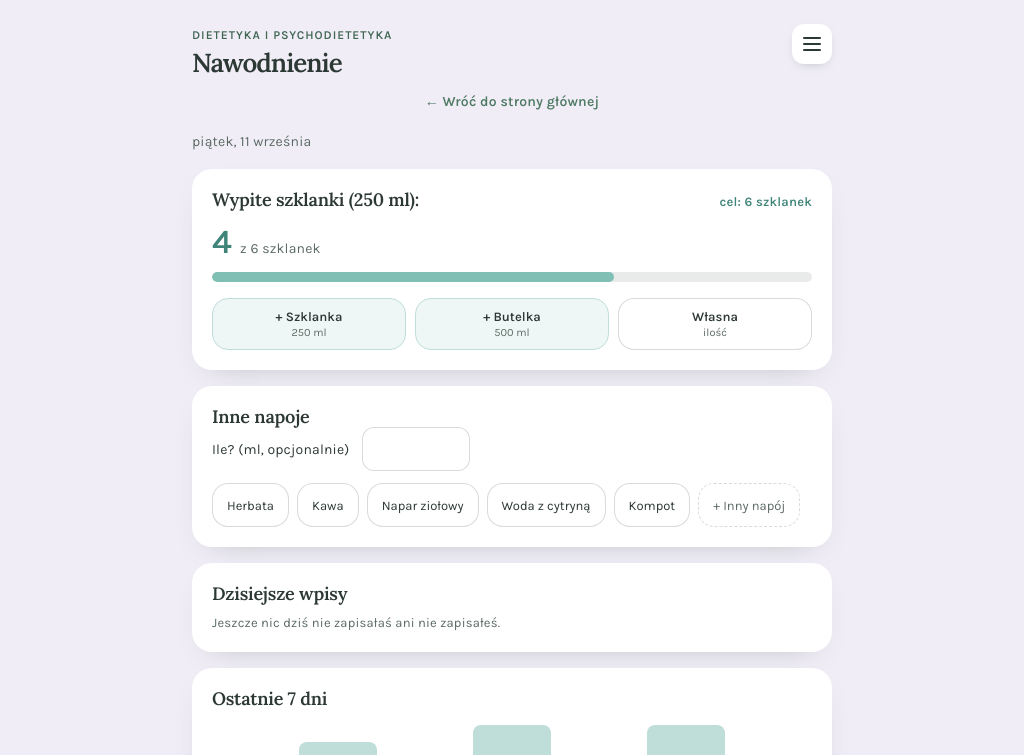
Test: recording a serving › a refusal is shown and the count does not move
Click the button "+ Szklanka 250 ml".
click(309, 324)  # box [212, 298, 406, 350]
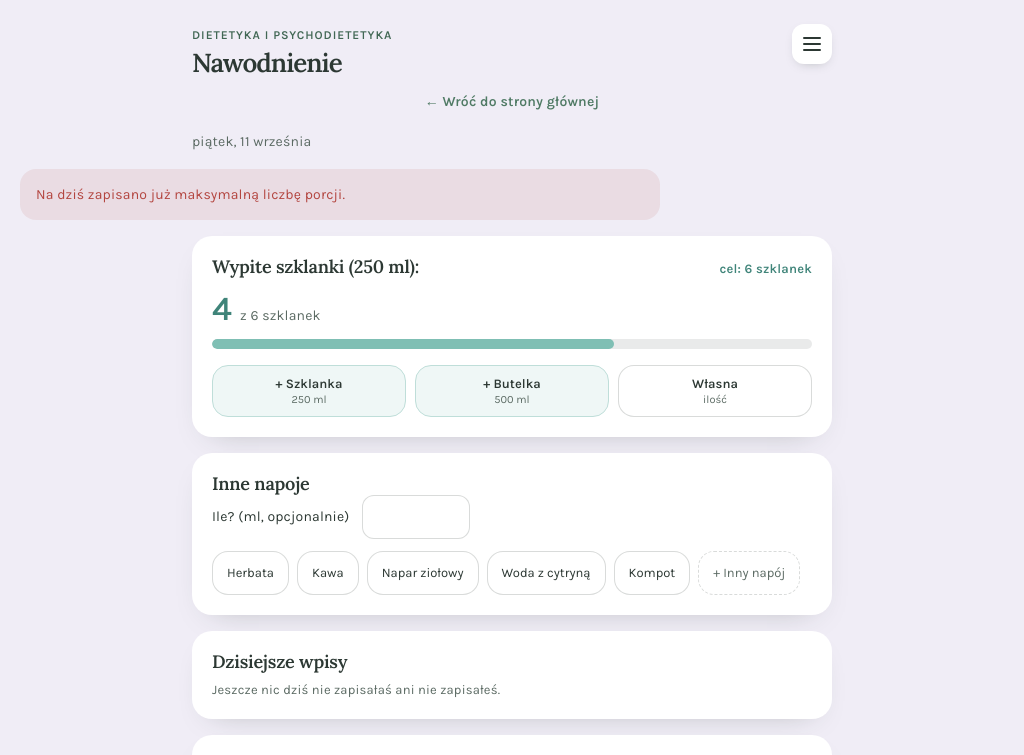
Expected: the text "4" is shown, [212, 292, 232, 326]
Expected: the message reads "Na dziś zapisano już maksymalną liczbę porcji.", [36, 186, 345, 203]
